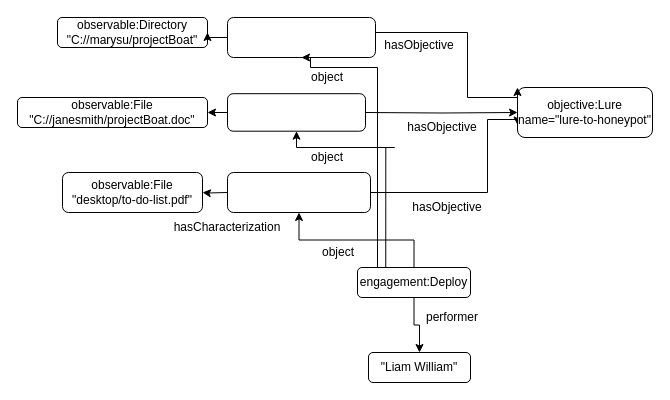
This 670x400 diagram has some shape labels left out. The centre of each missing label's shape, as x and y in pixels:
engagement:Breadcrumb "breadcrumb1": (x=301, y=37)
engagement:Breadcrumb "breadcrumb2": (x=296, y=112)
engagement:Breadcrumb "breadcrumb3": (x=298, y=192)
